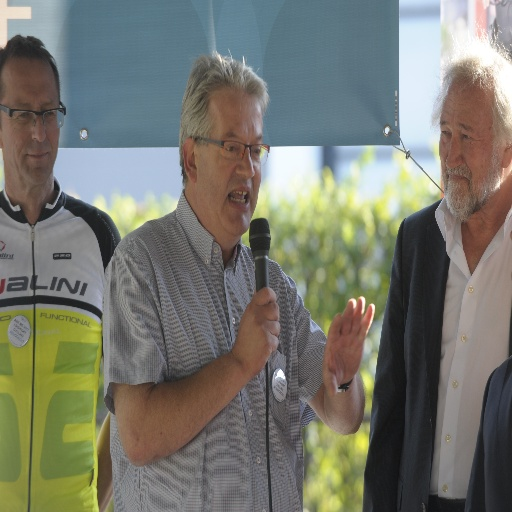hand: (219, 282, 279, 403), (320, 292, 376, 399)
